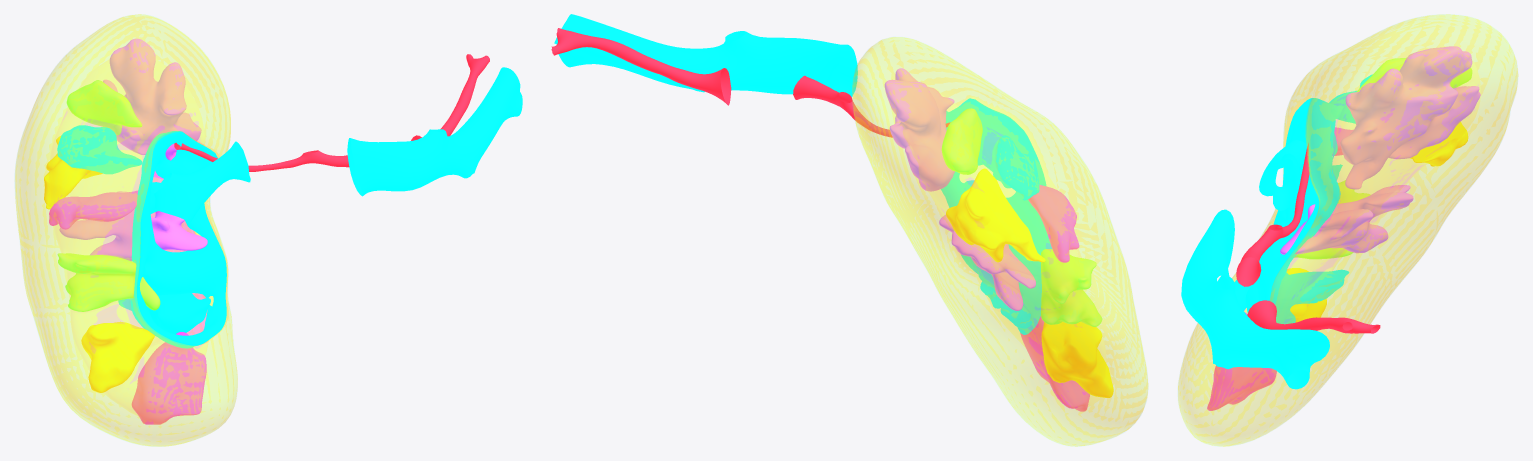
Rendered from niere-male-mobil.glb.
The picture shows the model from 3 angles, left to right: view 1: azimuth 30°, elevation 25°; view 2: azimuth 150°, elevation 25°; view 3: azimuth 270°, elevation 25°; orthographic projection. The views are drawn at different scales.
Parts seen in each view (by area): view 1: 0:0:VH_M_outer_cortex_of_kidney_R, 0:3:VH_M_hilum_of_kidney_R, 1:0:VH_M_renal_vein_L, 0:16:VH_M_renal_pyramid_a, 0:25:VH_M_renal_pyramid_j, 0:4:VH_M_kidney_capsule_R, 0:22:VH_M_renal_pyramid_g, 1:1:VH_M_renal_vein_R, 0:24:VH_M_renal_pyramid_i, 0:21:VH_M_renal_pyramid_f, 0:1:VH_M_renal_column_R, 0:18:VH_M_renal_pyramid_c (+6 smaller); view 2: 0:0:VH_M_outer_cortex_of_kidney_R, 1:0:VH_M_renal_vein_L, 0:4:VH_M_kidney_capsule_R, 0:16:VH_M_renal_pyramid_a, 0:19:VH_M_renal_pyramid_d, 0:3:VH_M_hilum_of_kidney_R, 0:24:VH_M_renal_pyramid_i, 0:22:VH_M_renal_pyramid_g, 1:3:VH_M_right_renal_artery, 0:21:VH_M_renal_pyramid_f, 0:20:VH_M_renal_pyramid_e, 0:17:VH_M_renal_pyramid_b (+5 smaller); view 3: 0:0:VH_M_outer_cortex_of_kidney_R, 0:16:VH_M_renal_pyramid_a, 1:0:VH_M_renal_vein_L, 0:3:VH_M_hilum_of_kidney_R, 0:4:VH_M_kidney_capsule_R, 0:21:VH_M_renal_pyramid_f, 0:23:VH_M_renal_pyramid_h, 0:25:VH_M_renal_pyramid_j, 1:2:VH_M_left_renal_artery, 1:1:VH_M_renal_vein_R, 1:3:VH_M_right_renal_artery, 0:19:VH_M_renal_pyramid_d (+5 smaller).
Part boxes in pixels (left/top/right/bottom): 0:0:VH_M_outer_cortex_of_kidney_R: left=15, top=14, right=237, bottom=446; 0:3:VH_M_hilum_of_kidney_R: left=130, top=131, right=226, bottom=348; 1:0:VH_M_renal_vein_L: left=347, top=67, right=522, bottom=196; 0:16:VH_M_renal_pyramid_a: left=103, top=38, right=201, bottom=160; 0:25:VH_M_renal_pyramid_j: left=131, top=342, right=206, bottom=424; 0:4:VH_M_kidney_capsule_R: left=15, top=15, right=234, bottom=444; 0:22:VH_M_renal_pyramid_g: left=57, top=253, right=149, bottom=311; 1:1:VH_M_renal_vein_R: left=153, top=141, right=250, bottom=222; 0:24:VH_M_renal_pyramid_i: left=81, top=321, right=149, bottom=392; 0:21:VH_M_renal_pyramid_f: left=59, top=191, right=207, bottom=261; 0:1:VH_M_renal_column_R: left=54, top=112, right=207, bottom=383; 0:18:VH_M_renal_pyramid_c: left=57, top=125, right=142, bottom=174; 0:0:VH_M_outer_cortex_of_kidney_R: left=852, top=37, right=1147, bottom=446; 1:0:VH_M_renal_vein_L: left=554, top=14, right=857, bottom=96; 0:4:VH_M_kidney_capsule_R: left=853, top=37, right=1147, bottom=445; 0:16:VH_M_renal_pyramid_a: left=884, top=68, right=954, bottom=191; 0:19:VH_M_renal_pyramid_d: left=946, top=175, right=1045, bottom=262; 0:3:VH_M_hilum_of_kidney_R: left=941, top=98, right=1051, bottom=294; 0:24:VH_M_renal_pyramid_i: left=1041, top=321, right=1113, bottom=397; 0:22:VH_M_renal_pyramid_g: left=1041, top=249, right=1102, bottom=326; 1:3:VH_M_right_renal_artery: left=551, top=28, right=731, bottom=105; 0:21:VH_M_renal_pyramid_f: left=939, top=215, right=1035, bottom=310; 0:20:VH_M_renal_pyramid_e: left=1028, top=185, right=1079, bottom=262; 0:17:VH_M_renal_pyramid_b: left=941, top=108, right=982, bottom=174; 0:0:VH_M_outer_cortex_of_kidney_R: left=1178, top=14, right=1517, bottom=446; 0:16:VH_M_renal_pyramid_a: left=1340, top=46, right=1480, bottom=189; 1:0:VH_M_renal_vein_L: left=1181, top=209, right=1329, bottom=389; 0:3:VH_M_hilum_of_kidney_R: left=1234, top=98, right=1342, bottom=310; 0:4:VH_M_kidney_capsule_R: left=1178, top=14, right=1517, bottom=444; 0:21:VH_M_renal_pyramid_f: left=1280, top=185, right=1413, bottom=254; 0:23:VH_M_renal_pyramid_h: left=1246, top=269, right=1348, bottom=324; 0:25:VH_M_renal_pyramid_j: left=1207, top=365, right=1276, bottom=410; 1:2:VH_M_left_renal_artery: left=1236, top=143, right=1309, bottom=286; 1:1:VH_M_renal_vein_R: left=1259, top=140, right=1307, bottom=210; 1:3:VH_M_right_renal_artery: left=1247, top=300, right=1380, bottom=333; 0:19:VH_M_renal_pyramid_d: left=1410, top=121, right=1468, bottom=166.
Bounding box in the file's own units: 0.1578 × 0.1125 × 0.0764.
